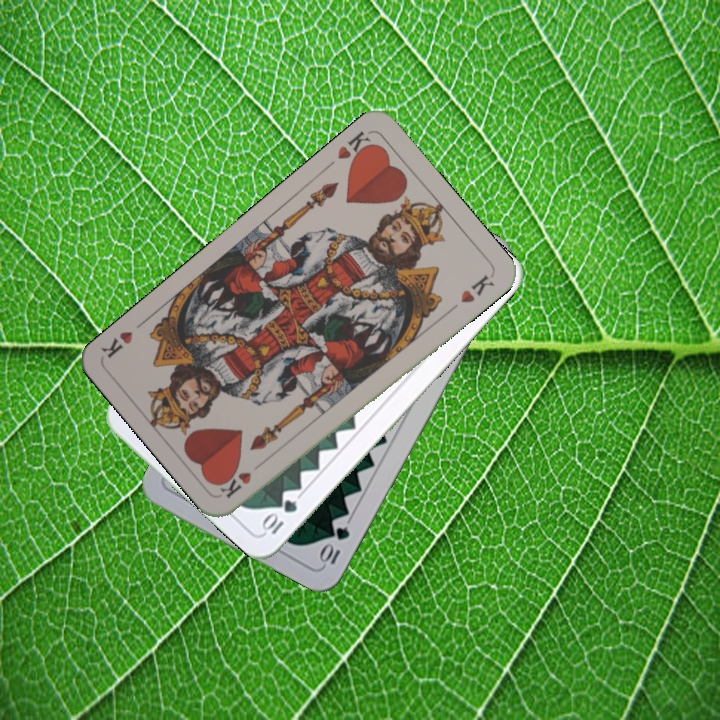G10: (258, 495, 300, 538), (316, 522, 353, 567)
HK: (217, 455, 269, 501), (333, 127, 379, 169)
